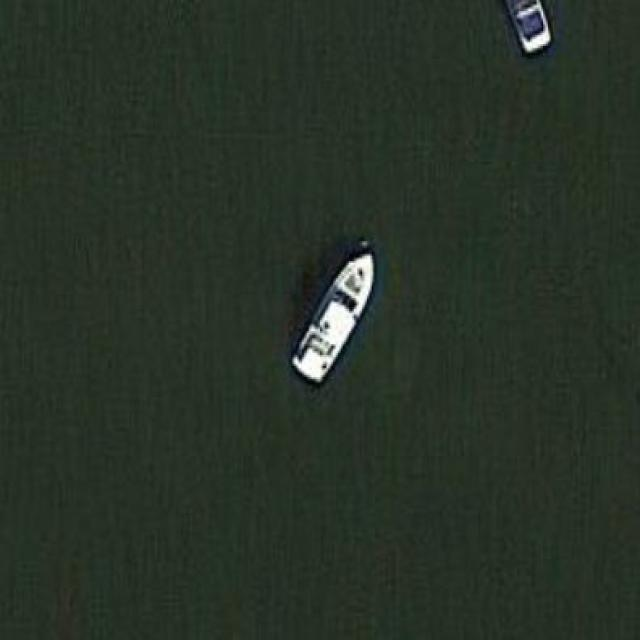boat: (291, 250, 373, 386), (499, 0, 560, 64)
